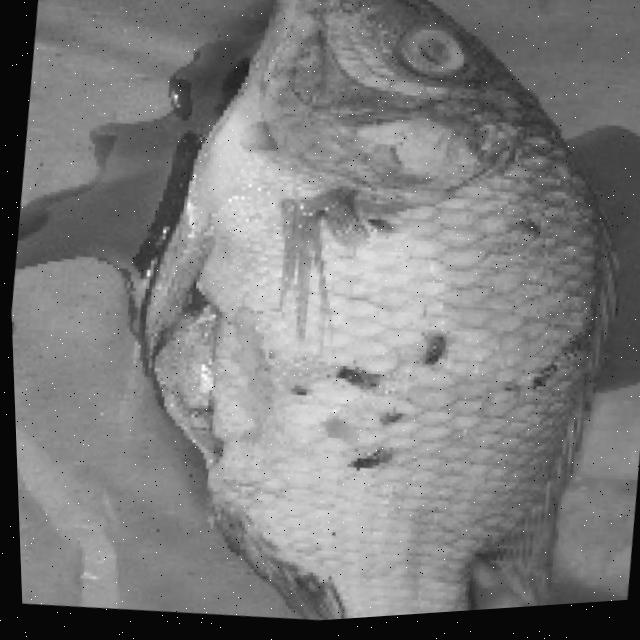Non-Fresh: (178, 47, 594, 505), (372, 9, 486, 107)
